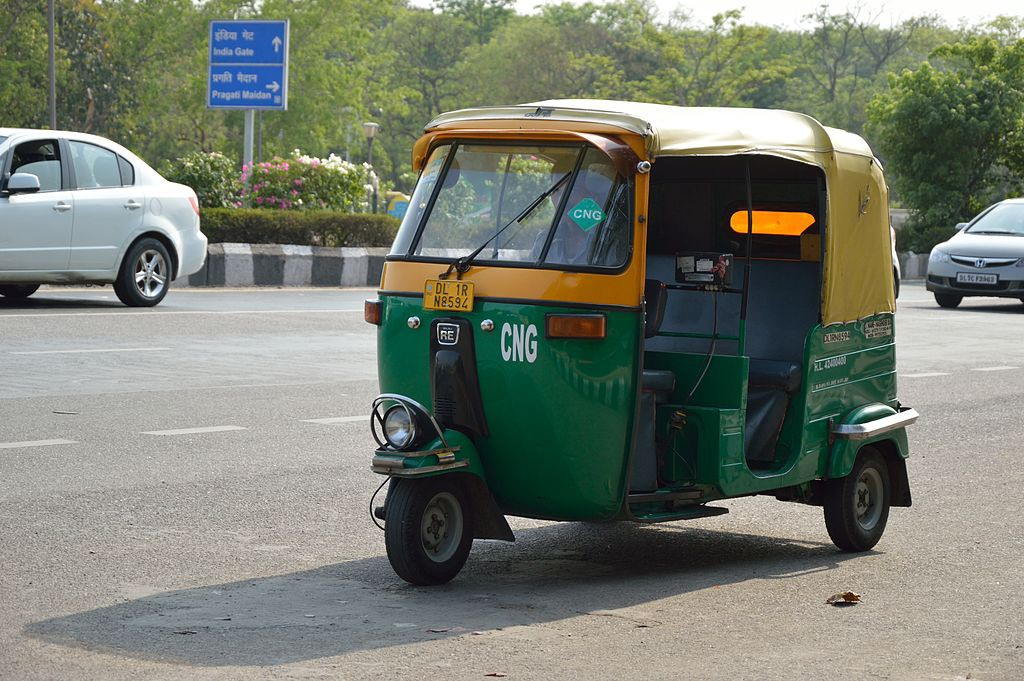number_plate: (415, 273, 479, 316)
